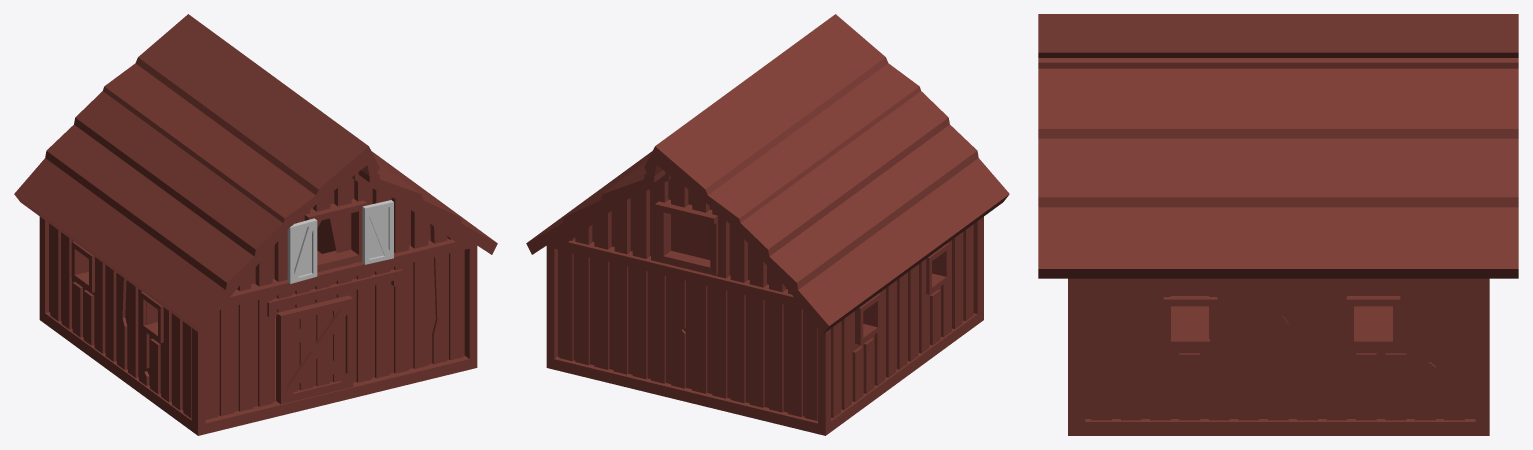
Rendered from SmallBarn.glb.
3 renders of one model, left to right at view 1: azimuth 30°, elevation 25°; view 2: azimuth 150°, elevation 25°; view 3: azimuth 270°, elevation 25°, orthographic. The views are drawn at different scales.
Visible parts, largest first — view 1: Small_Barn_Cube.013, Small_Barn_Door_Cube.008, SmallBarn_Window_Cube.023, SmallBarn_Window2_Cube.022; view 2: Small_Barn_Cube.013; view 3: Small_Barn_Cube.013.
Boxes of the visible parts, x1,y1,x2,y2 form: Small_Barn_Cube.013: (14, 14, 497, 435); Small_Barn_Door_Cube.008: (276, 295, 353, 404); SmallBarn_Window_Cube.023: (362, 200, 393, 264); SmallBarn_Window2_Cube.022: (287, 218, 317, 283); Small_Barn_Cube.013: (526, 14, 1009, 435); Small_Barn_Cube.013: (1038, 14, 1518, 435).
Size of the model in its own units: 6.08 by 4.96 by 6.27.
